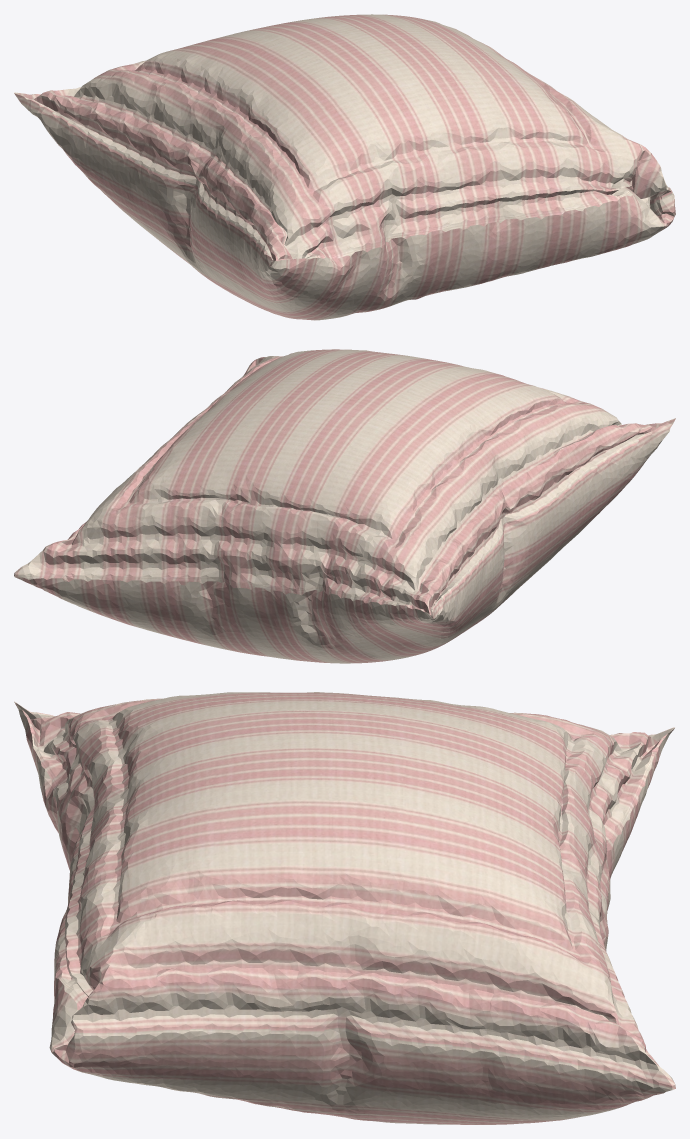
The model's file is cojin.fbx.
3 views of the same model, one above another, from view 1: azimuth 30°, elevation 25°; view 2: azimuth 150°, elevation 25°; view 3: azimuth 270°, elevation 25° (orthographic). The views are drawn at different scales.
Parts seen in each view (by area): view 1: Object04; view 2: Object04; view 3: Object04.
Part boxes in pixels (bbox=[...]): Object04: bbox=[14, 14, 675, 320]; Object04: bbox=[14, 349, 675, 663]; Object04: bbox=[14, 692, 675, 1124].
Size of the model in its own units: 325 by 180 by 328.
